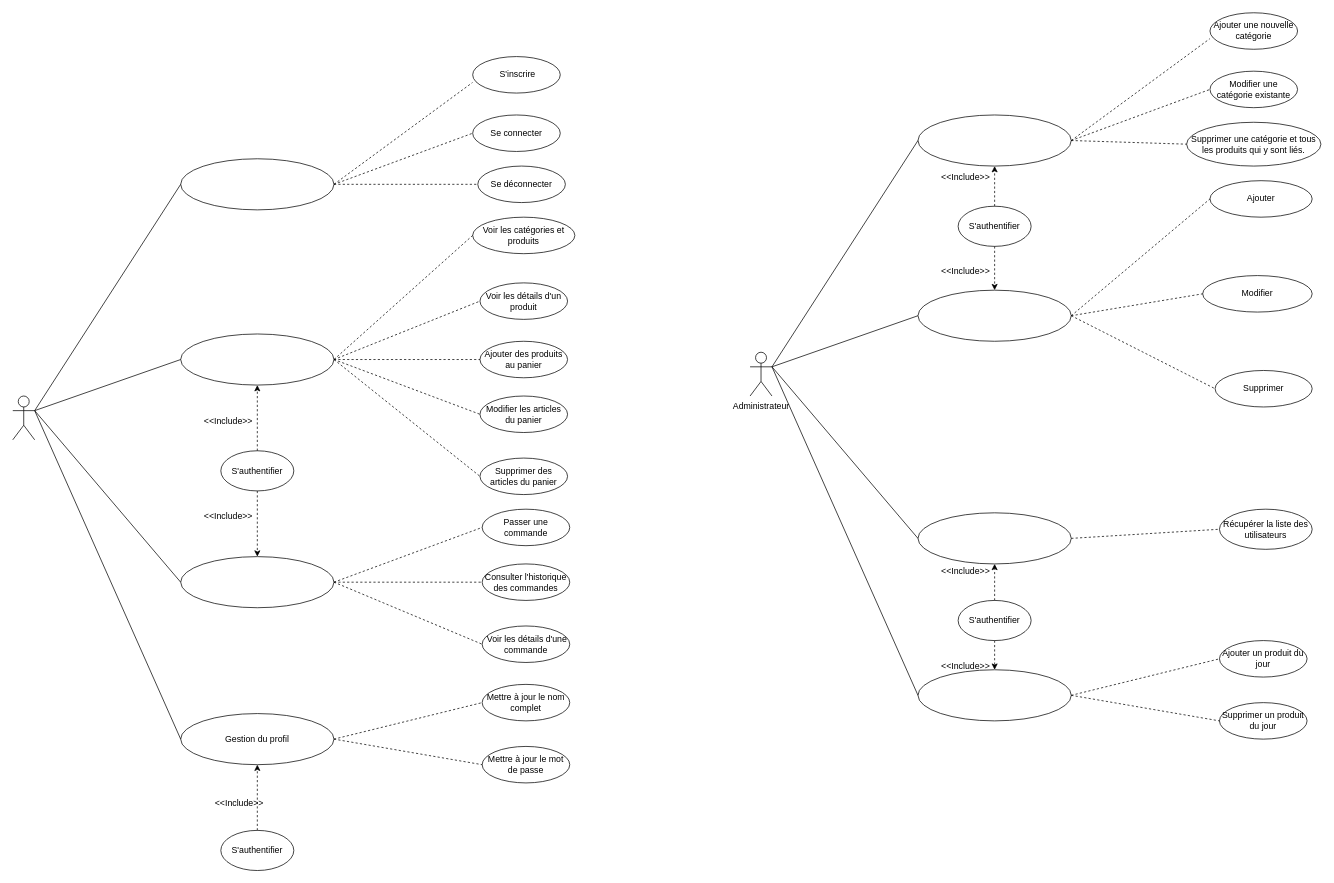
Some shapes in this 1334 by 883 pixel diagram are drawn without their labels. The centre of each missing label's shape, as x and y in pixels:
"Client" belongs at point 23,417.
"Gestion de l'authentification" belongs at point 257,184.
"Gestion des catégories" belongs at point 994,140.
"Gestion des commandes" belongs at point 257,582.
"Gestion des produits et boissons" belongs at point 994,315.
"Gestion des utilisateurs" belongs at point 994,538.
"Gérer les produits du jour" belongs at point 994,695.
"Navigation et Gestion du Panier" belongs at point 257,359.
